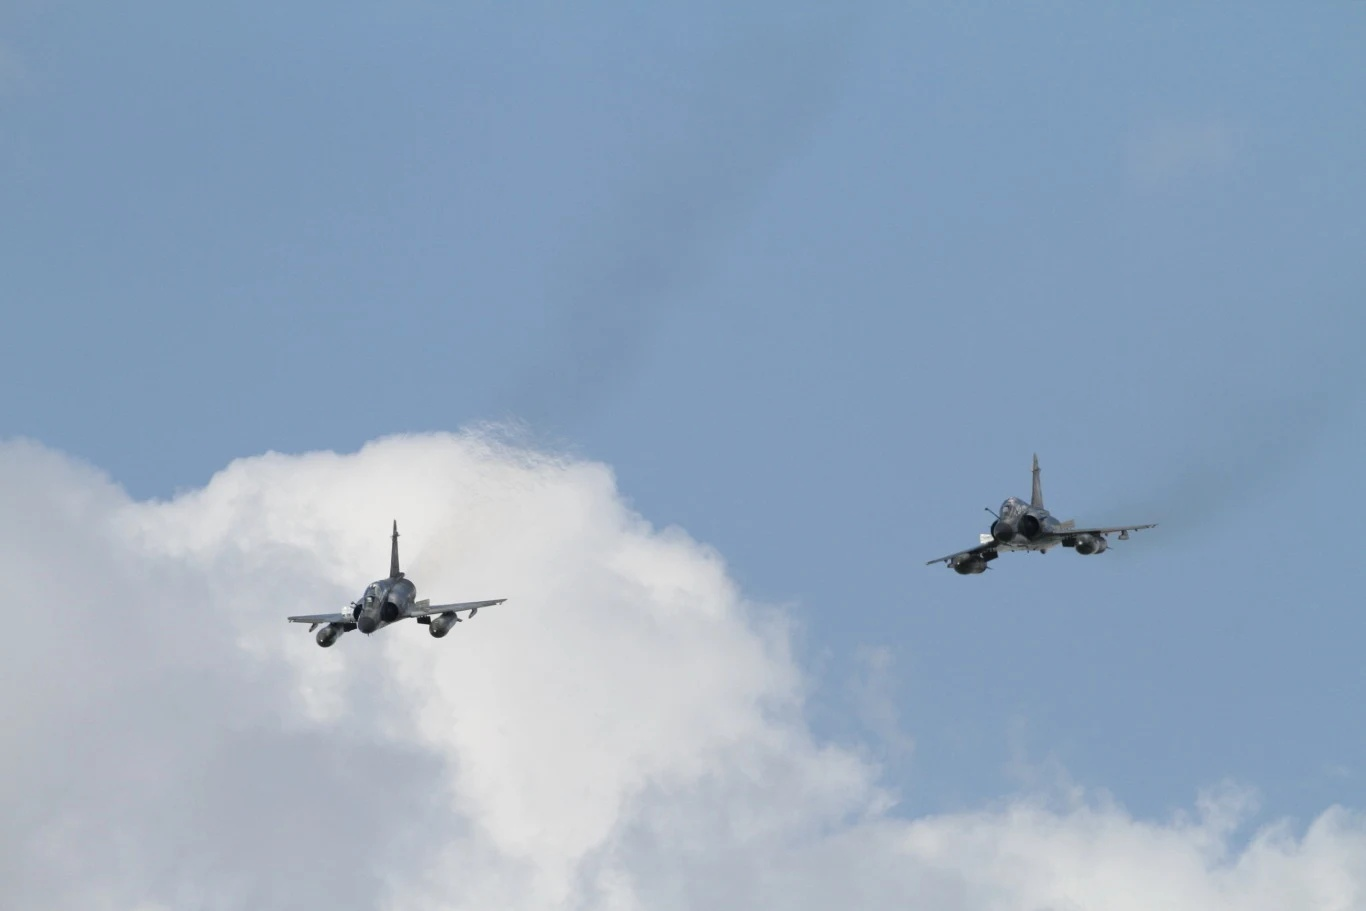Mirage2000: (924, 450, 1159, 575), (286, 519, 508, 648)
